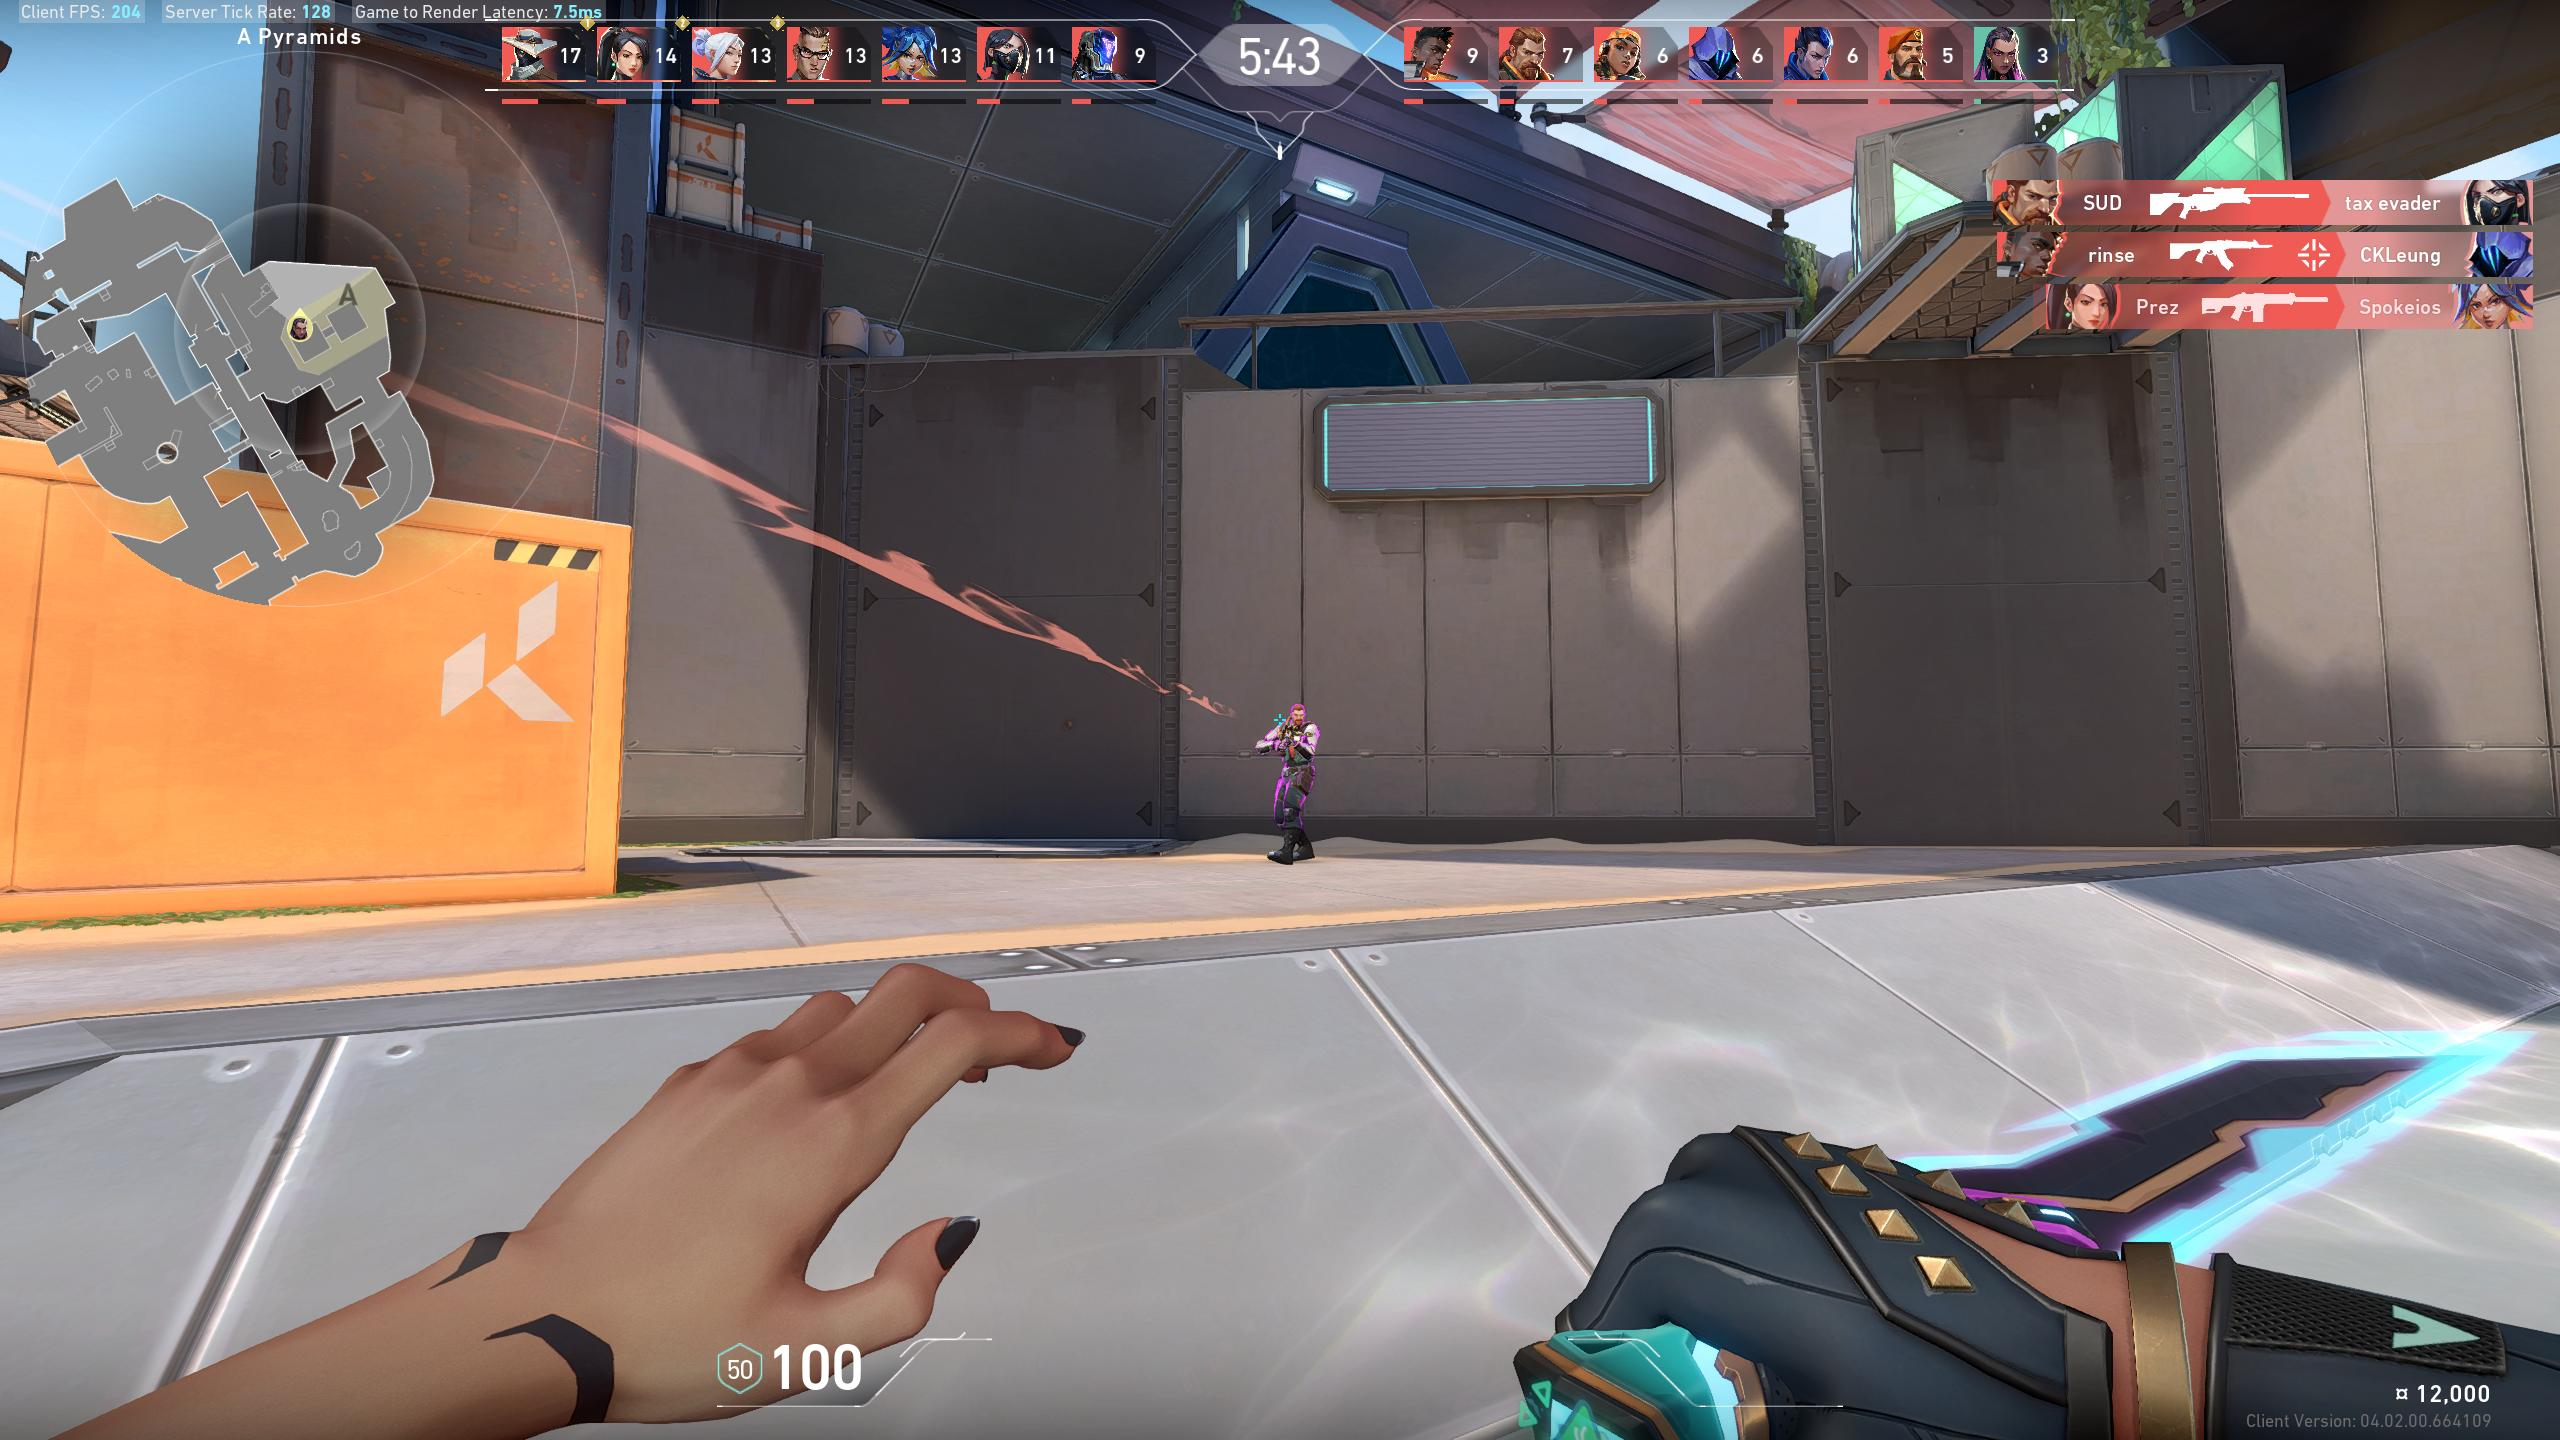enemyBody: (1285, 730, 1308, 765)
enemyHead: (1294, 707, 1305, 724)
